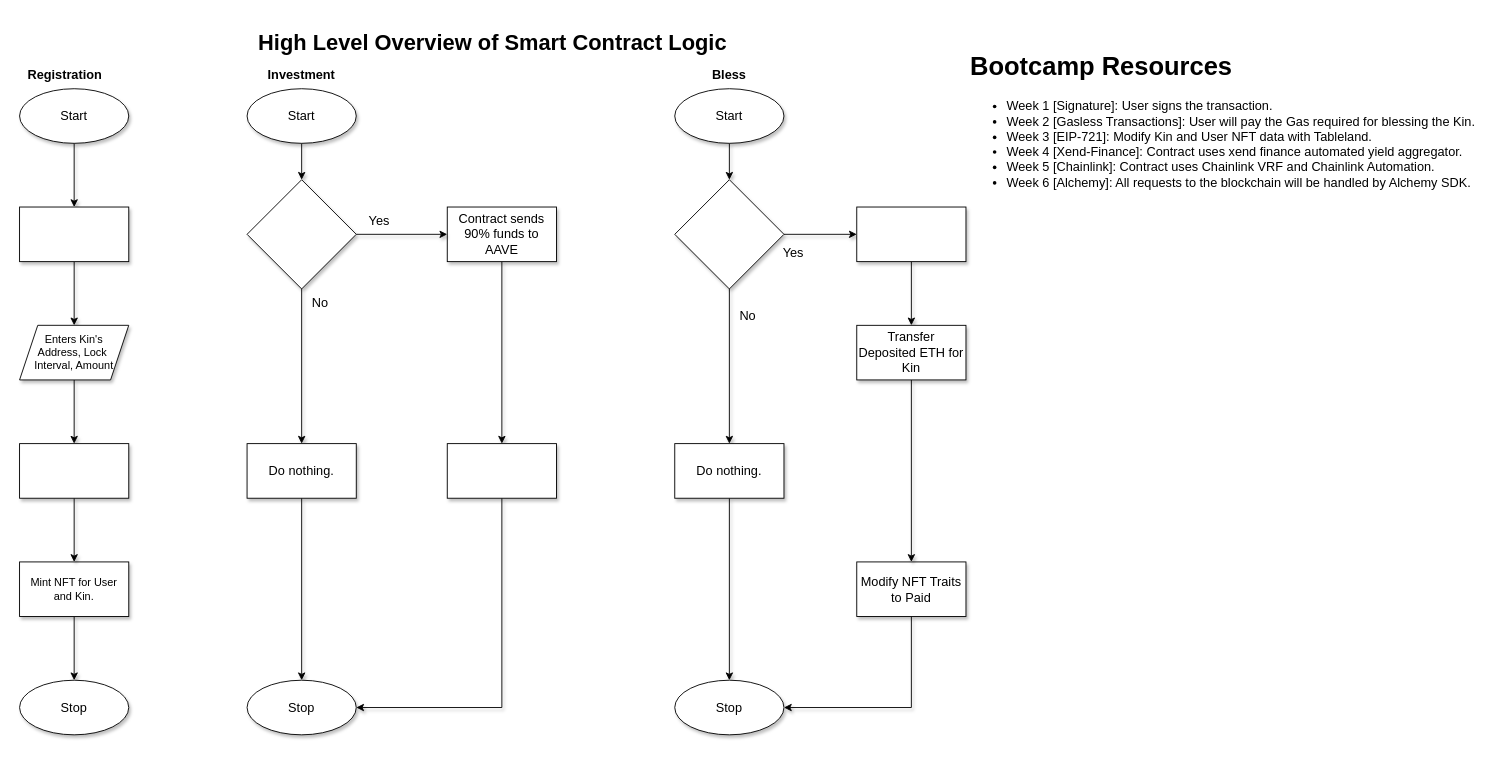
This 1501x757 diagram has some shape labels left out. Here are the shapes that lost their labels. From the top down, the centre of each, then its label:
At [74,235]: "User Registers with 0.001 ETH.".
At [302,235]: "this.balance > 0.1 ETH?".
At [729,235]: "Validation of life == false?".
At [911,235]: "Retrieve Kin NFT".
At [74,472]: "User signs Transaction".
At [502,472]: "Send 90% rewards to random Kin.".
